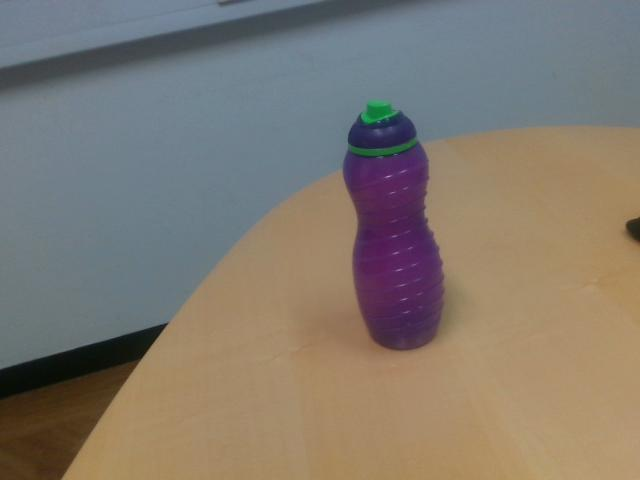bottle: (343, 98, 445, 353)
